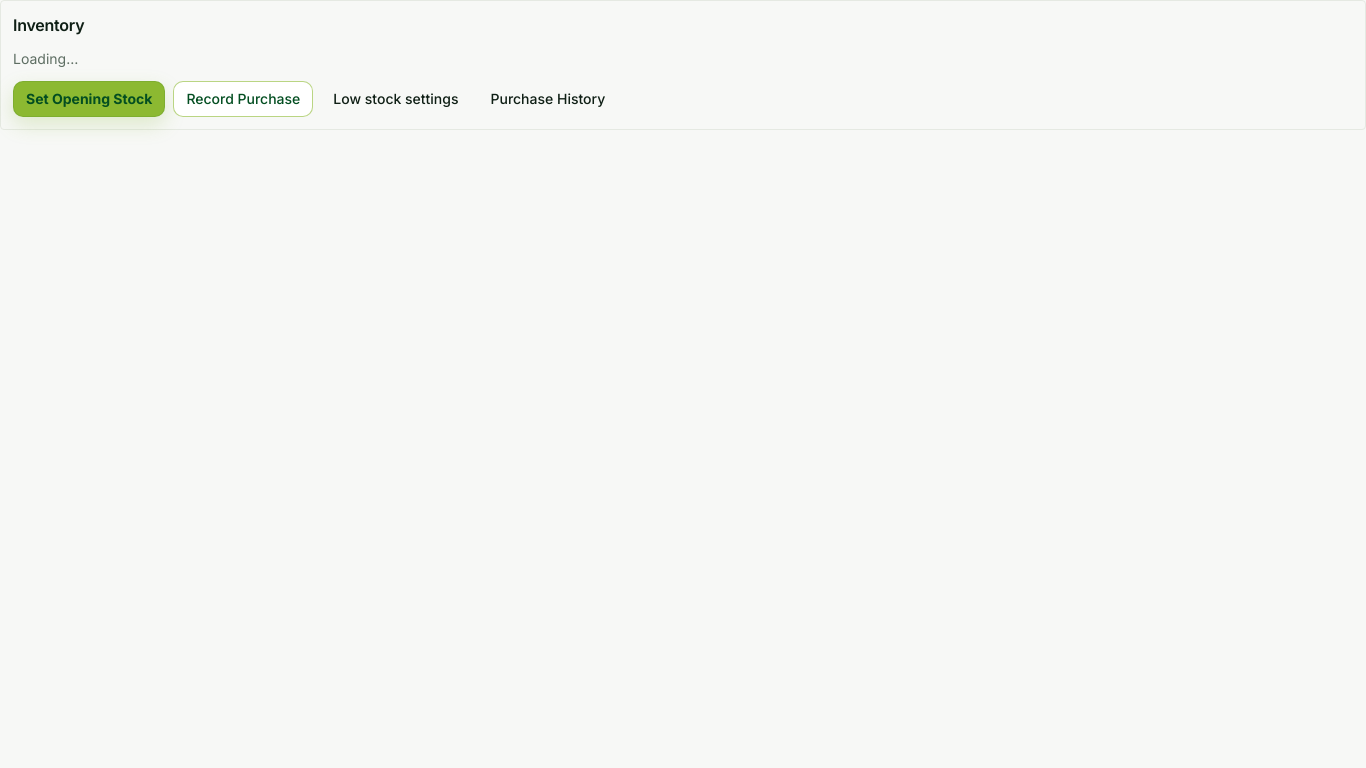
Test case: inventory post-save refresh + default unit › A/H. opening stock writes fresh summary into shared cache, toasts, disables while pending
The width and height of the screenshot is (1366, 768).
Later steps or results of the test are not shown.
Click the button "Set Opening Stock". click: (89, 99)
box: left=13, top=81, right=165, bottom=117
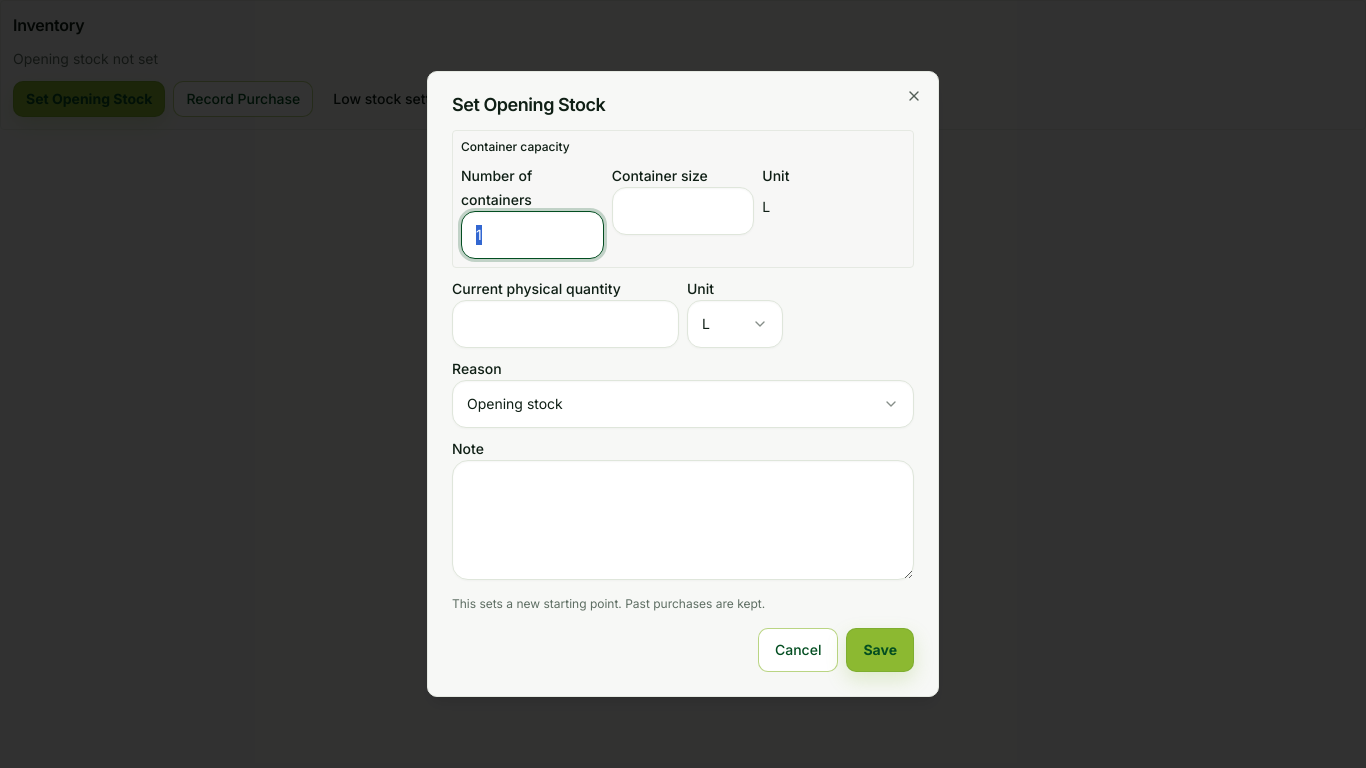
Type "10" into the field labelled "Current physical quantity". click: (566, 324)
box: left=452, top=300, right=679, bottom=348
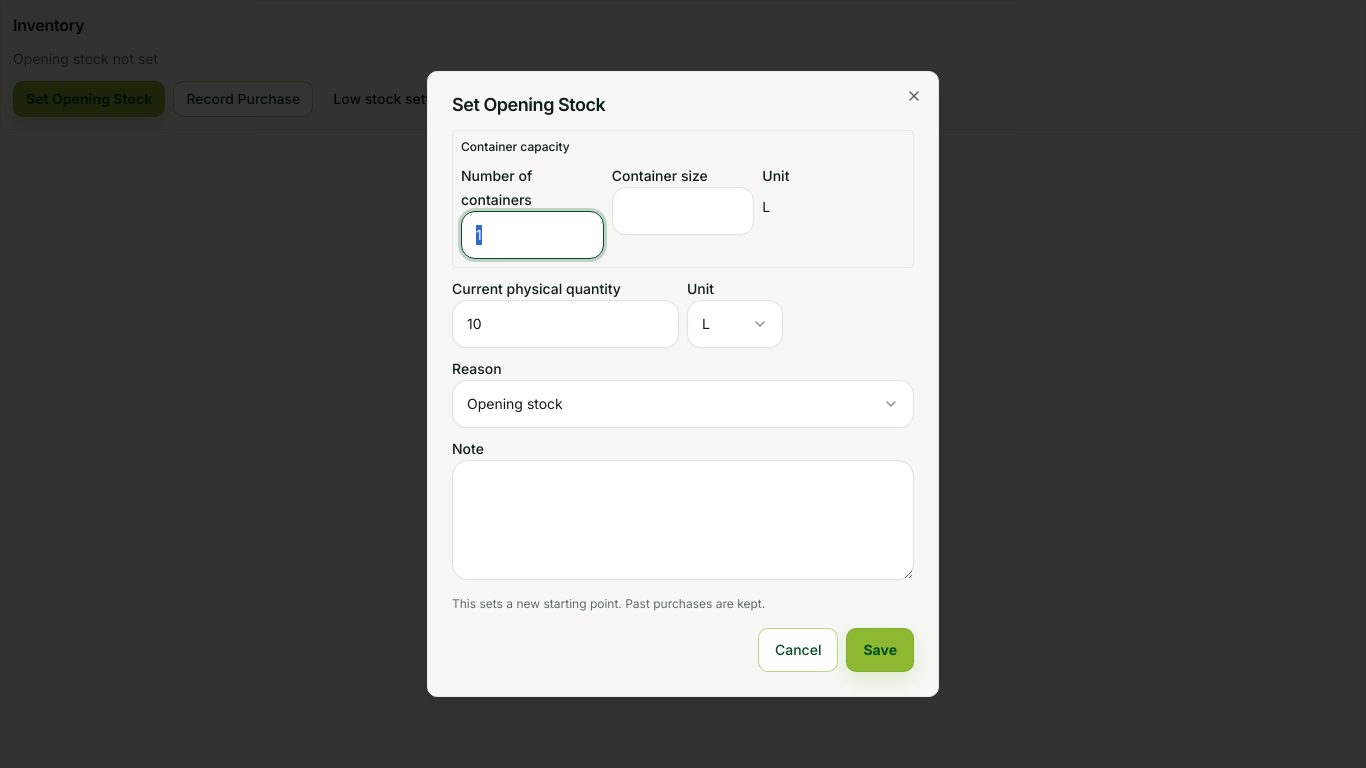
Click the button "Save". click: (880, 650)
box: left=846, top=628, right=914, bottom=672
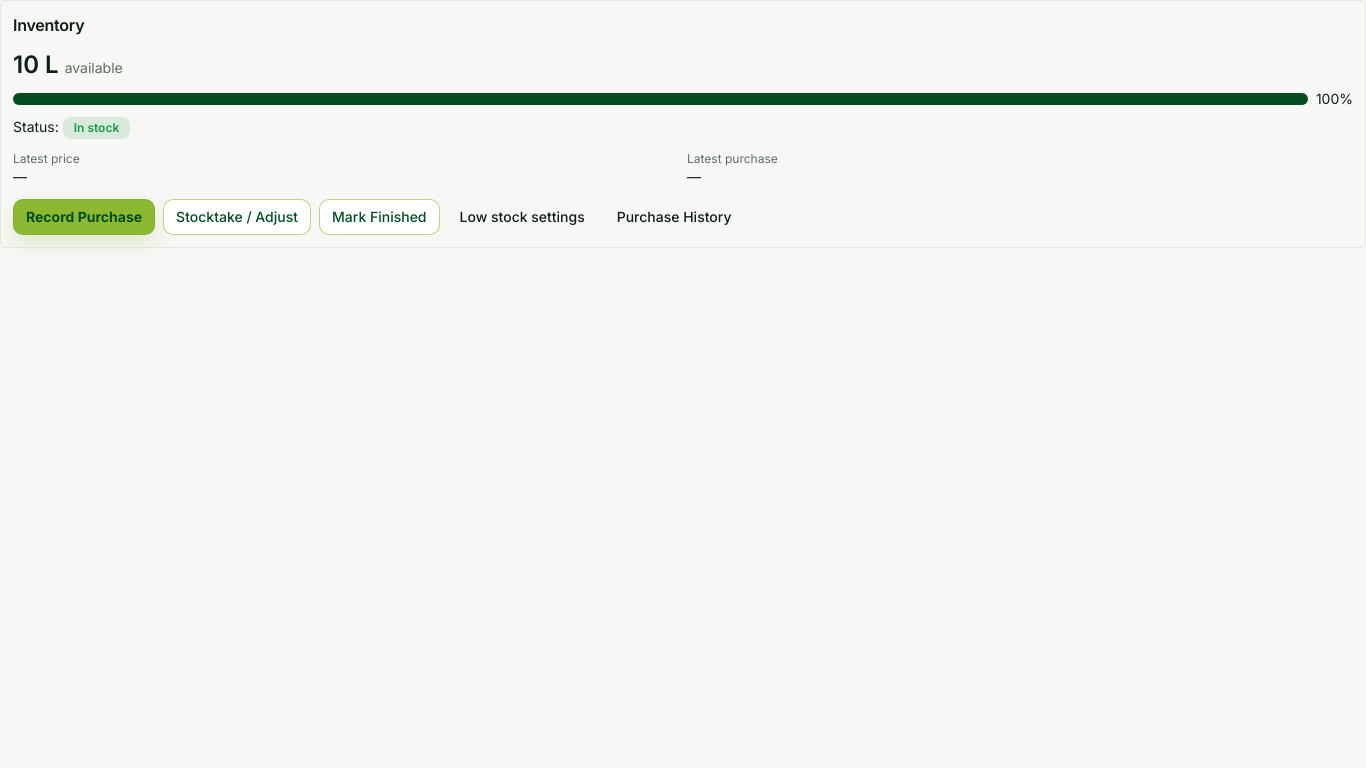
Check: the element with test id "inventory-summary" shows "10 L", box left=13, top=49, right=1353, bottom=139
